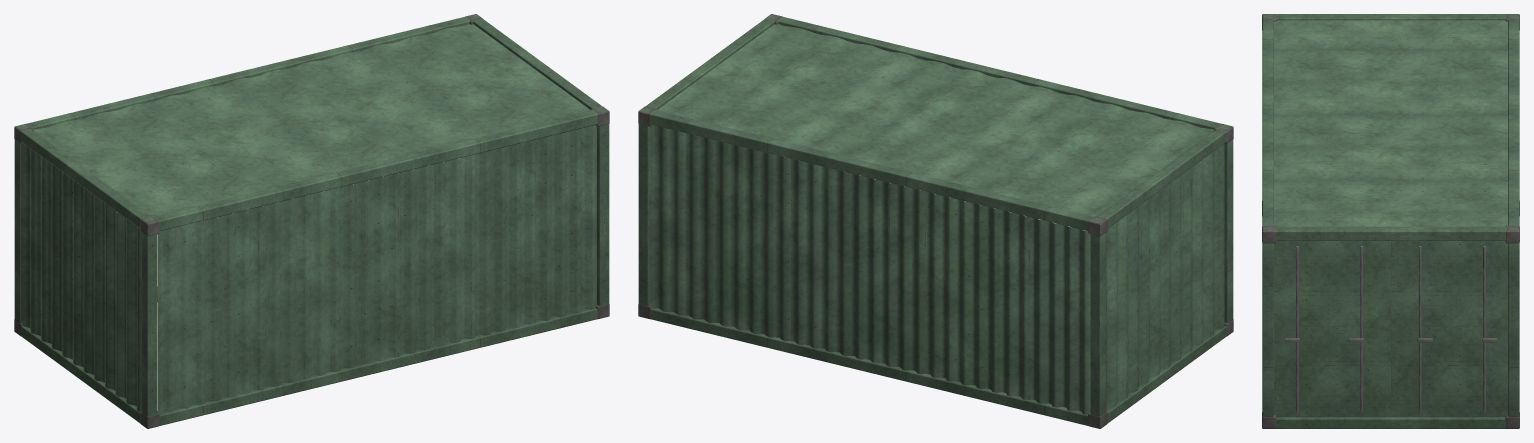
Rendered from prop_containerGreen.glb.
The picture shows the model from 3 angles, left to right: view 1: azimuth 30°, elevation 25°; view 2: azimuth 150°, elevation 25°; view 3: azimuth 270°, elevation 25°; orthographic projection. The views are drawn at different scales.
Parts seen in each view (by area): view 1: prop; view 2: prop; view 3: prop.
Part boxes in pixels (x1,y1,x2,y2): prop: [14, 14, 609, 428]; prop: [638, 14, 1233, 428]; prop: [1262, 14, 1519, 428].
Bounding box in the file's own units: 4.01 × 1.7 × 2.
Materials: 1 (1 with a texture image).
